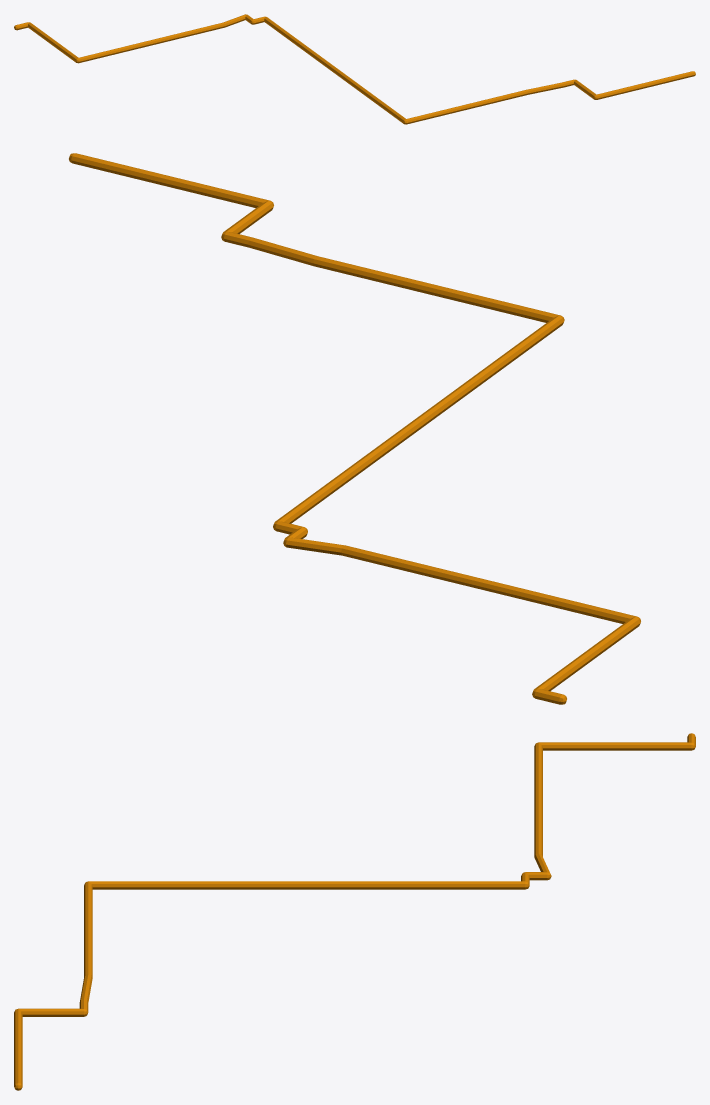
3 views of the same model, one above another, from view 1: azimuth 30°, elevation 25°; view 2: azimuth 150°, elevation 25°; view 3: azimuth 270°, elevation 25° (orthographic). The views are drawn at different scales.
Size of the model in its own units: 1912 by 20 by 1561.
